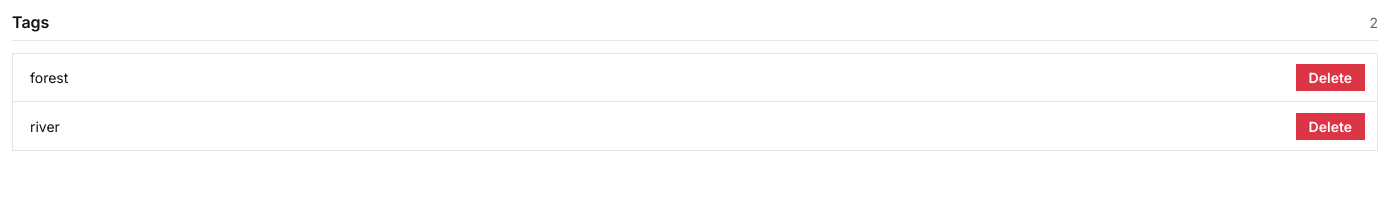
Test: MetadataList › does not revalidate when the delete throws
What coordinates should you click on to do the following:
click the 1st button "Delete"
I would click on:
 (1330, 78)
Its box is [1296,64,1365,91].
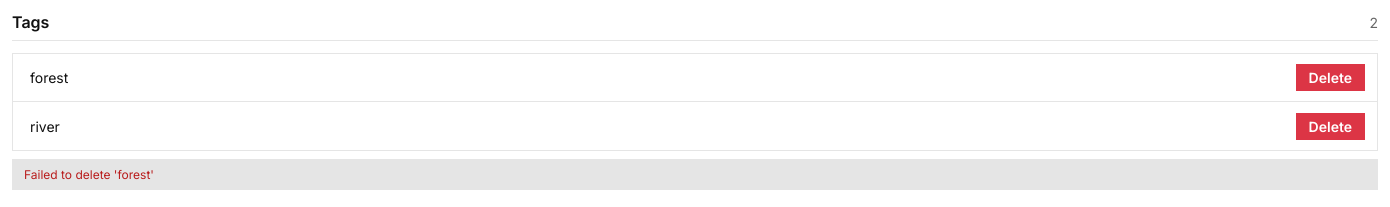
Expected: the text "Failed to delete 'forest'" is shown, [12,159,1378,190]
